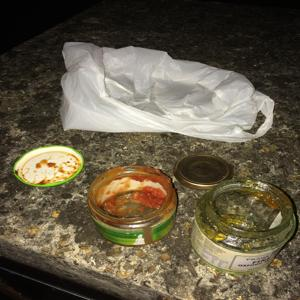glass: (191, 180, 298, 276), (84, 163, 182, 247)
metal: (11, 141, 88, 192), (174, 148, 236, 188)
plastic: (56, 35, 280, 144)
